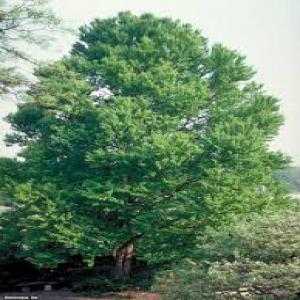Tree: (5, 11, 286, 282)
